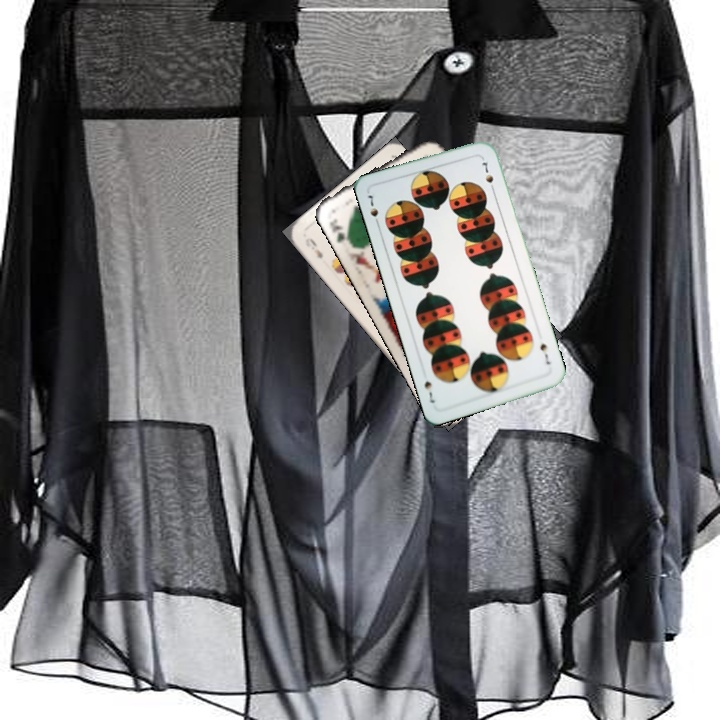E9: (301, 233, 326, 261)
GK: (325, 214, 353, 246)
S7: (363, 191, 382, 229), (536, 339, 553, 367)
